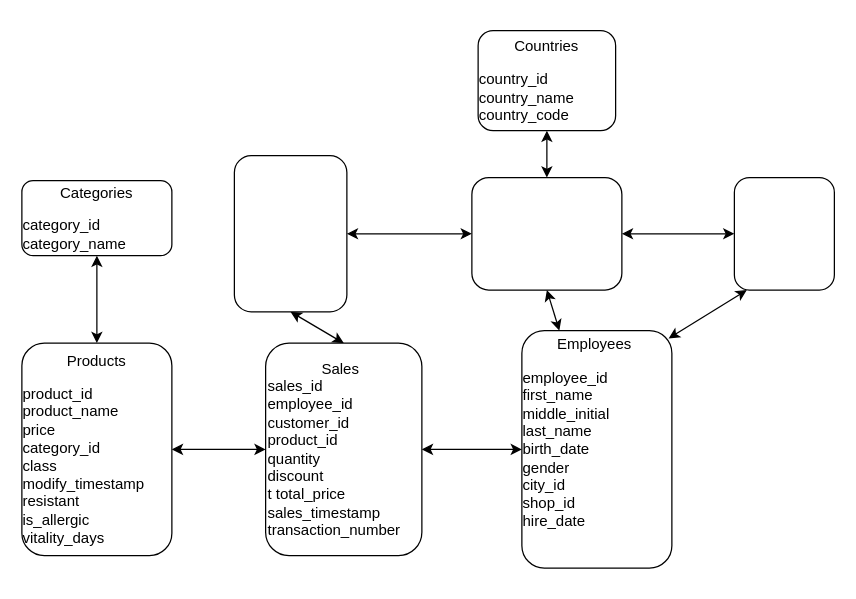
Image size: 856x599. Some labels were removed from this diagram. The shapes that lost their labels are listed below. From the top down, each one's box as (x1, y1, x2, y2) in pixels, then its label:
(233, 154, 347, 312): Customers customer_id first_name middle_initial last_name city_id address
(471, 176, 622, 290): Cities city_id city_name zipcode country_id
(733, 176, 834, 290): Shops shop_id city_id address
